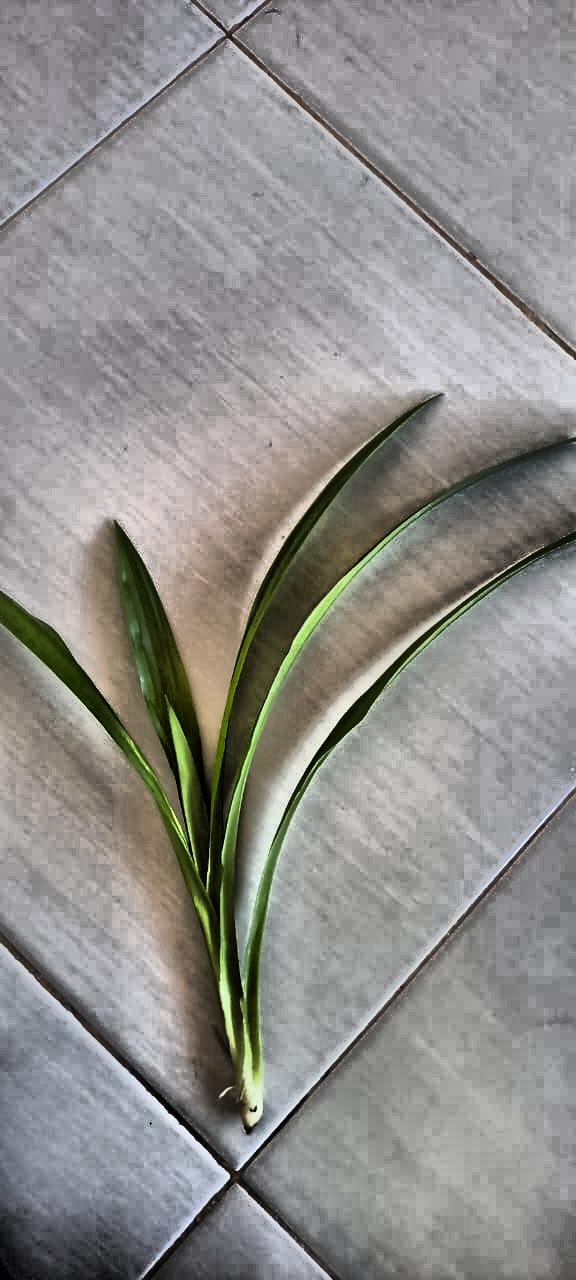daun pandan: (0, 401, 575, 1132)
